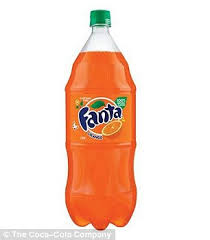fanta: (62, 12, 138, 228)
